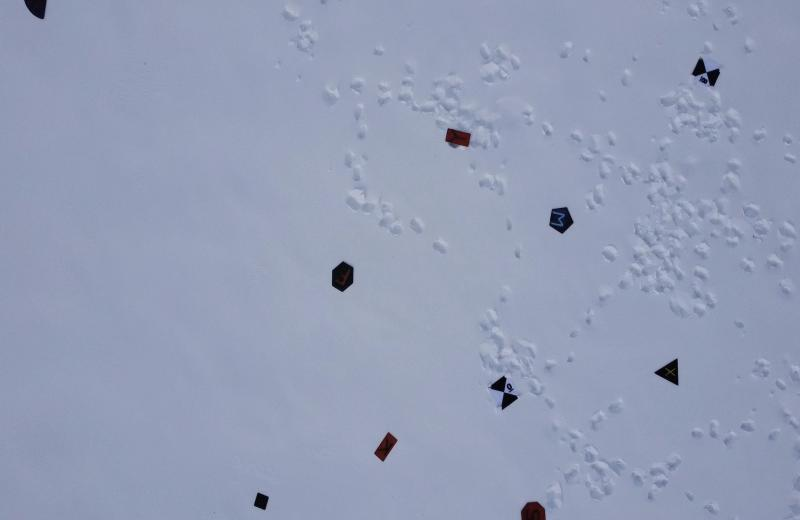Hexagon: (328, 258, 357, 294)
Octagon: (517, 498, 548, 520)
Pentagon: (546, 203, 579, 239)
Rectangle: (372, 430, 400, 463), (443, 126, 477, 152)
Square: (252, 488, 273, 515)
Triangle: (653, 356, 681, 389)
